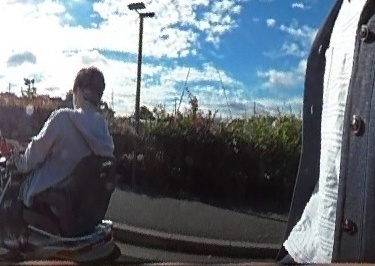person: (19, 63, 116, 222)
